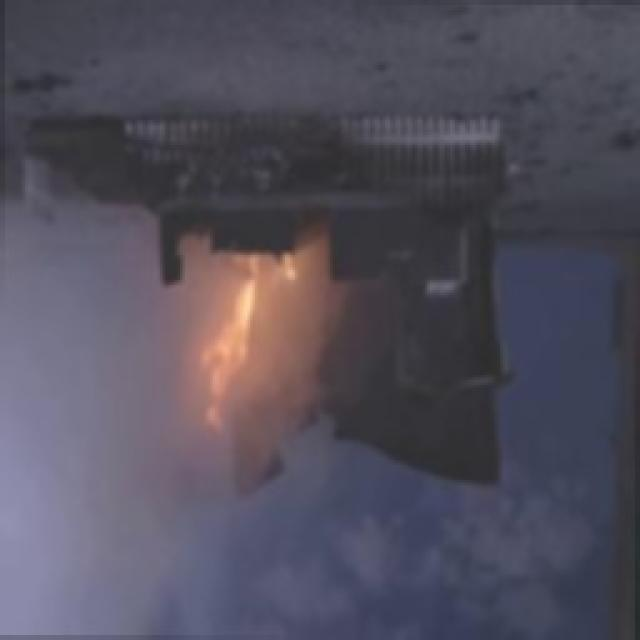fire: (171, 225, 309, 450)
smoke: (0, 396, 255, 639)
